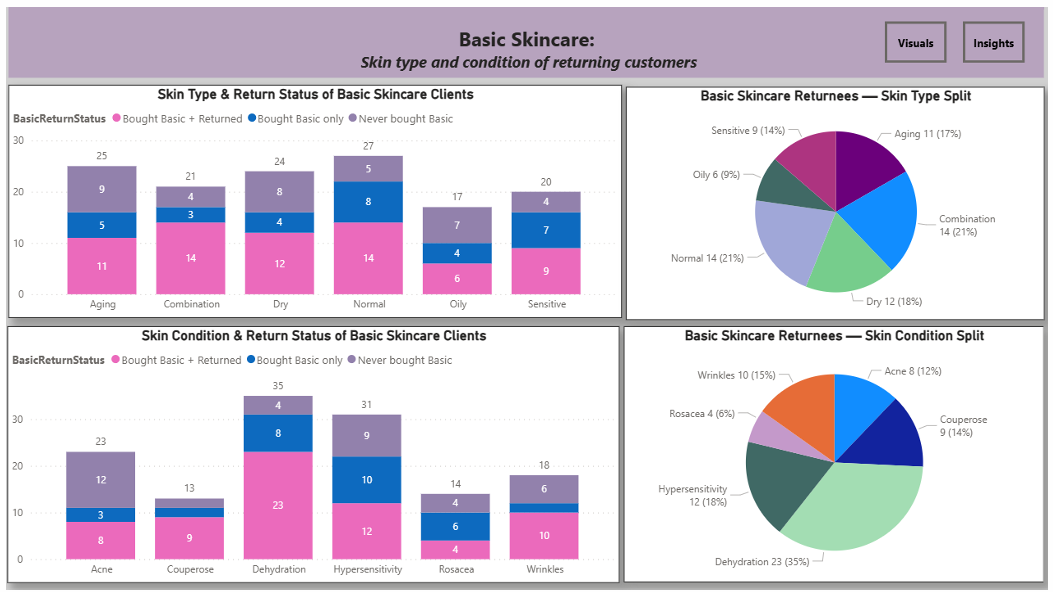

The page's visual inventory and layout, read from the dashboard file:
{"tool":"powerbi","page":{"name":" Bought Basic","canvas":[1280,720],"ordinal":3},"visuals":[{"type":"textbox","title":"Заголовок","box":[8.7,0,1260.9,86.8],"z":0},{"type":"columnChart","title":"Skin Type & Return Status of Basic Skincare Clients","fields":{"Category":["clients.skin_type"],"Y":["_DAX_measures_.Total Clients"],"Series":["clients.BasicReturnStatus"]},"box":[8.7,95,746.2,285],"z":0,"group":"g1"},{"type":"columnChart","title":"Skin Condition & Return Status of Basic Skincare Clients","fields":{"Category":["clients.skin_condition"],"Y":["_DAX_measures_.Total Clients"],"Series":["clients.BasicReturnStatus"]},"box":[7.9,390,745,313.8],"z":1000,"group":"g1"},{"type":"pieChart","title":"Basic Skincare Returnees — Skin Type Split","fields":{"Category":["clients.skin_type"],"Y":["_DAX_measures_.Total Clients"]},"box":[760.5,97.5,510,285],"z":2000,"group":"g1"},{"type":"actionButton","box":[1074.4,17.4,75.2,50.6],"z":3000},{"type":"pieChart","title":"Basic Skincare Returnees — Skin Condition Split","fields":{"Category":["clients.skin_condition"],"Y":["_DAX_measures_.Total Clients"]},"box":[758,390,511.2,312.5],"z":3000,"group":"g1"},{"type":"actionButton","box":[1169.8,17.4,75.2,50.6],"z":4000},{"type":"group","id":"g1","title":"Графіки","box":[7.9,95,1262.6,608.8],"z":5000}]}

Visuals, with their boxes in screenshot pixels (x1, y1, x2, y2), scaled from the page's 1280x720 canvas onto the 1053x592 screenshot:
"Заголовок" textbox: pyautogui.locateOnScreen(7, 0, 1044, 71)
"Skin Type & Return Status of Basic Skincare Clients" columnChart: pyautogui.locateOnScreen(7, 78, 621, 312)
"Skin Condition & Return Status of Basic Skincare Clients" columnChart: pyautogui.locateOnScreen(6, 321, 619, 579)
"Basic Skincare Returnees — Skin Type Split" pieChart: pyautogui.locateOnScreen(626, 80, 1045, 314)
actionButton: pyautogui.locateOnScreen(884, 14, 946, 56)
"Basic Skincare Returnees — Skin Condition Split" pieChart: pyautogui.locateOnScreen(624, 321, 1044, 578)
actionButton: pyautogui.locateOnScreen(962, 14, 1024, 56)
"Графіки" group: pyautogui.locateOnScreen(6, 78, 1045, 579)
